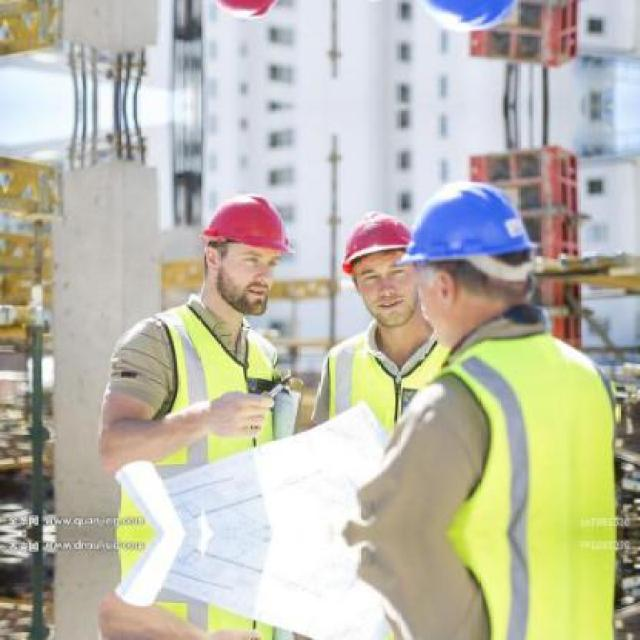helmet: (397, 180, 538, 340), (340, 194, 446, 335), (187, 182, 296, 313), (397, 0, 540, 34), (186, 0, 297, 31)
